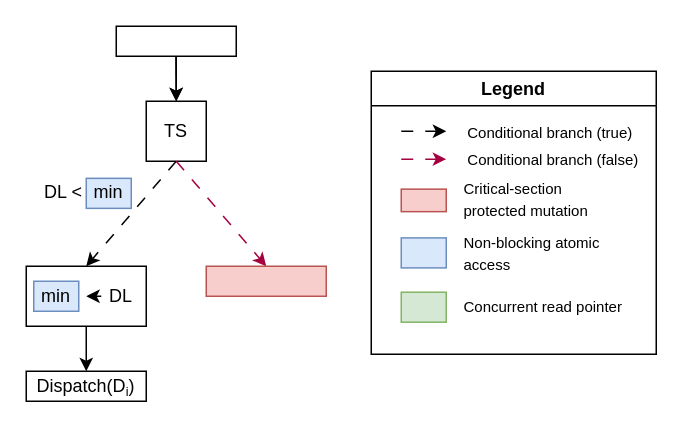
Image size: 683x428. Some labels were removed from this diagram. The shapes that lost their labels are listed below. From the top down, each one's centre as x and y in pixels, then its label:
At [175,40]: "Interrupt(A i )".
At [265,280]: "insert(TS, D i )".
